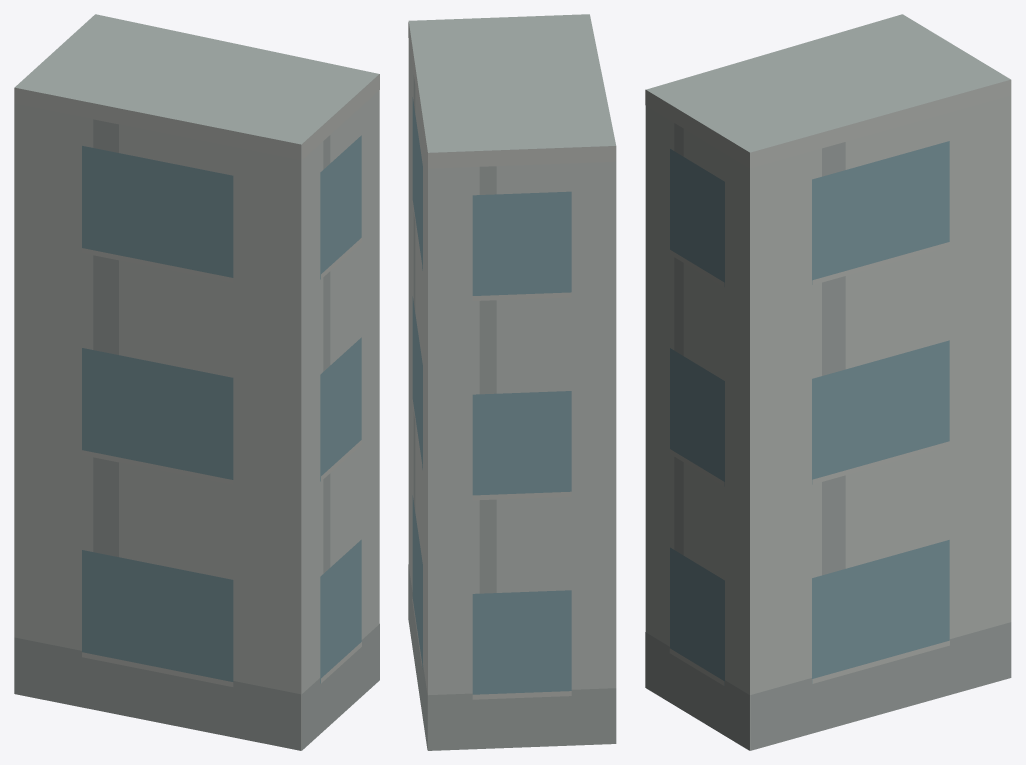
File: survey-upis-32783429.glb
The picture shows the model from 3 angles, left to right: view 1: azimuth 30°, elevation 25°; view 2: azimuth 150°, elevation 25°; view 3: azimuth 270°, elevation 25°; orthographic projection.
Visible parts, largest first — view 1: survey-upis-32783429.tmp; view 2: survey-upis-32783429.tmp; view 3: survey-upis-32783429.tmp.
Boxes of the visible parts, left/top/right/bottom form: survey-upis-32783429.tmp: left=14, top=14, right=379, bottom=750; survey-upis-32783429.tmp: left=408, top=14, right=616, bottom=750; survey-upis-32783429.tmp: left=645, top=14, right=1011, bottom=750.
Size of the model in its own units: 4.55 by 9.15 by 5.07.
